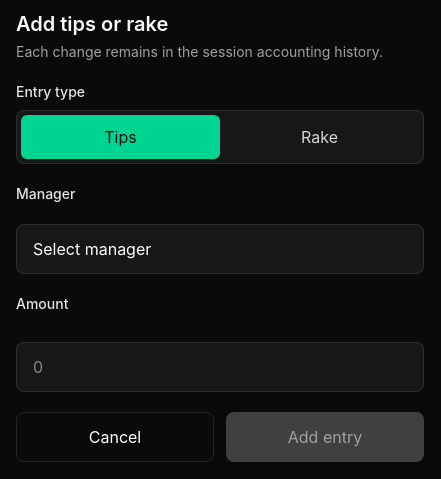
it: SessionFinancialEntryDialogComponent › keeps the dialog open while choosing a manager from the menu
Click the button with aria-label "Choose manager".
click(92, 249)  # box [16,224,424,274]
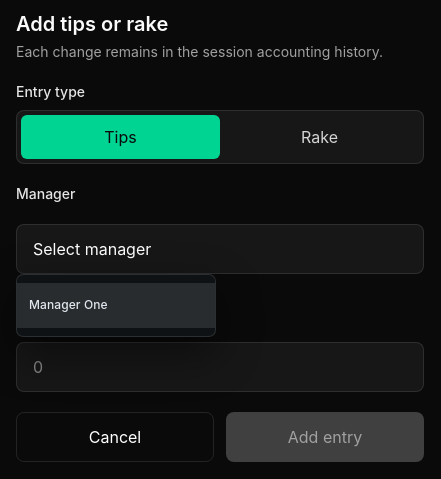
Click the menu item "Manager One".
click(116, 305)  # box [17,283,215,328]
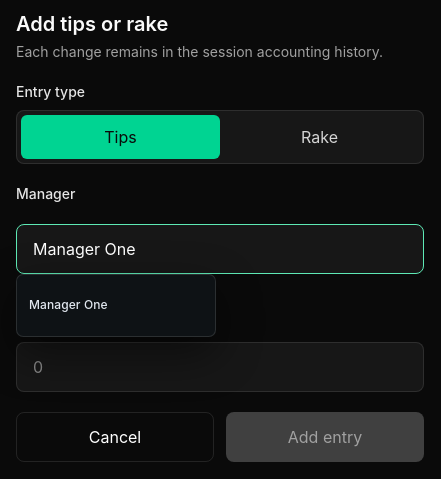
Expected: the menu item "Manager One" is shown, [17,283,215,328]
Expected: the text "Manager One" below "Entry type" is shown, [33,239,136,259]
